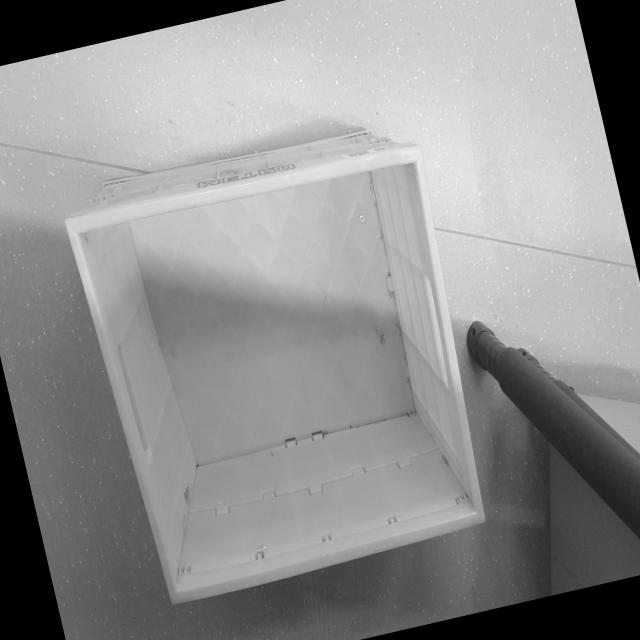box: (35, 47, 518, 630)
